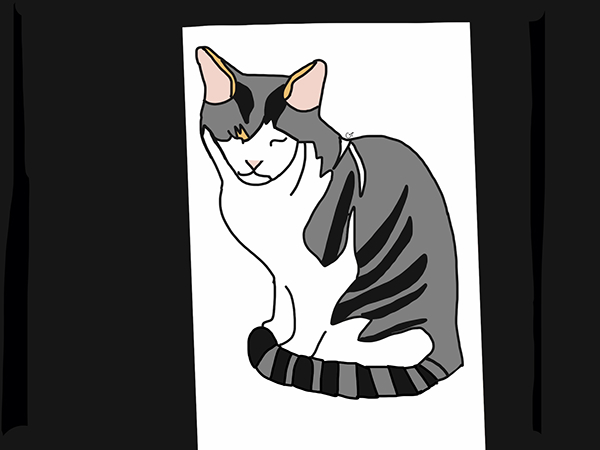cat: (190, 42, 484, 414)
